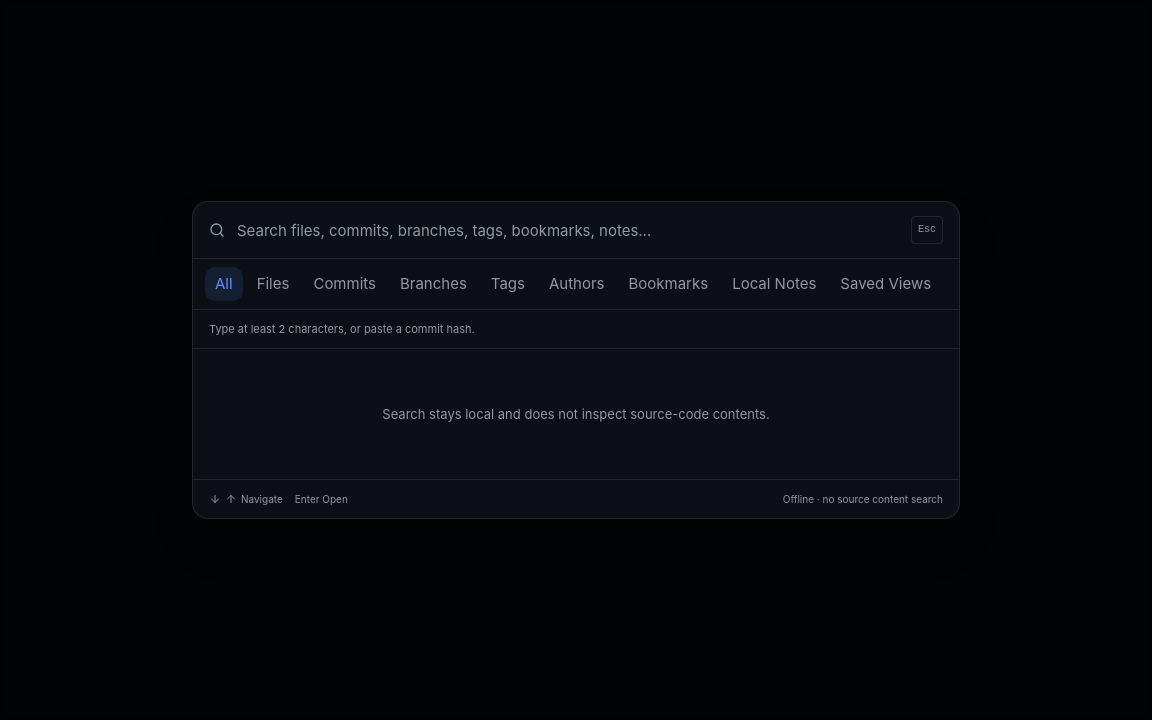
Test: GlobalSearch › does not let a slow previous request overwrite the newest query
In the field named "Search repository": (568, 230) [233, 202, 903, 258], type "old"
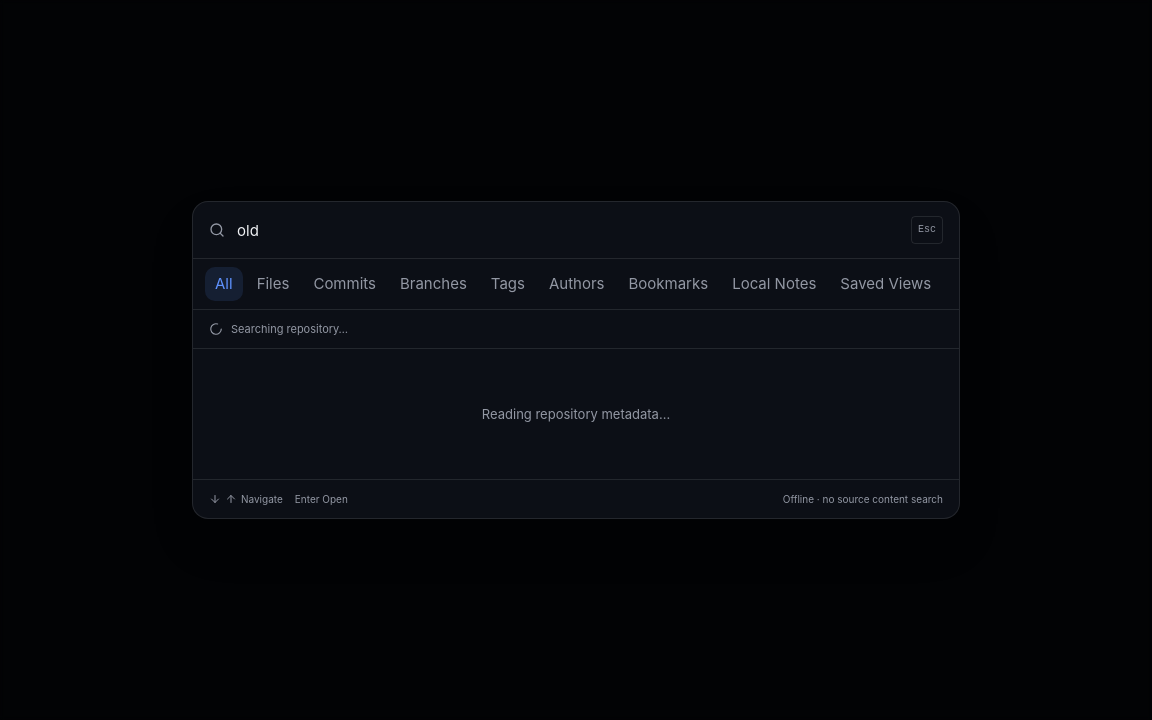
Replace the text in the field named "Search repository" with "new": (568, 230) [233, 202, 903, 258]
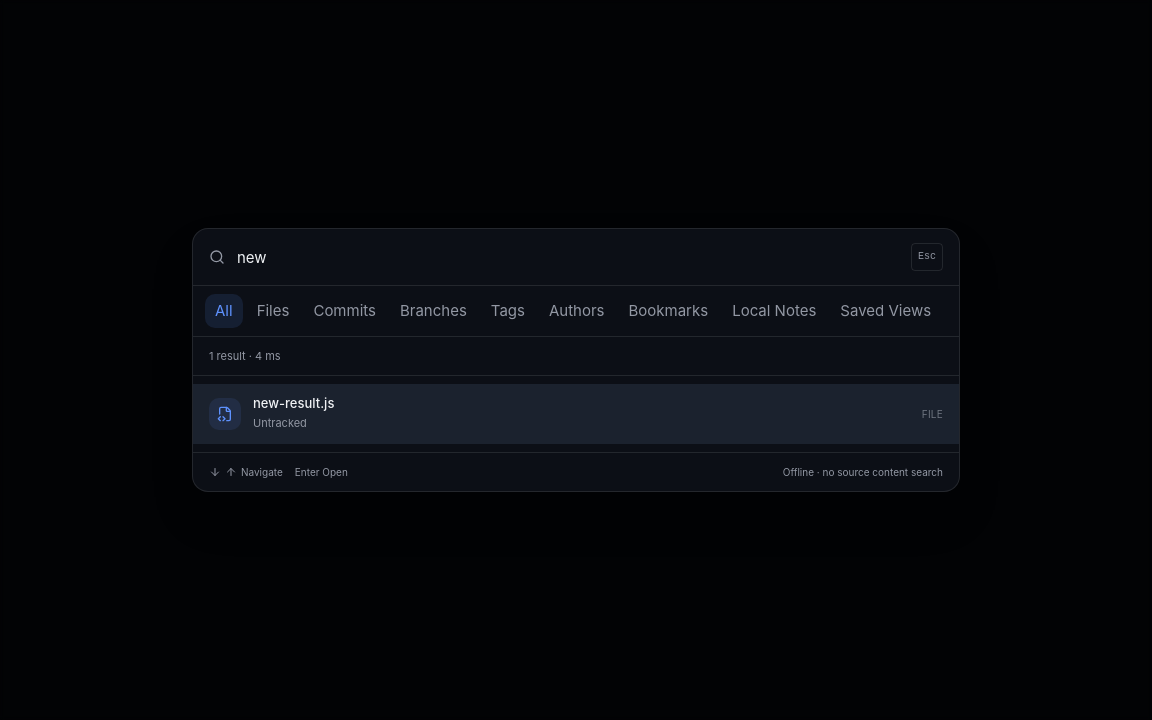
Now the option "new-result.js Untracked File" is shown, box [193, 384, 959, 444]
